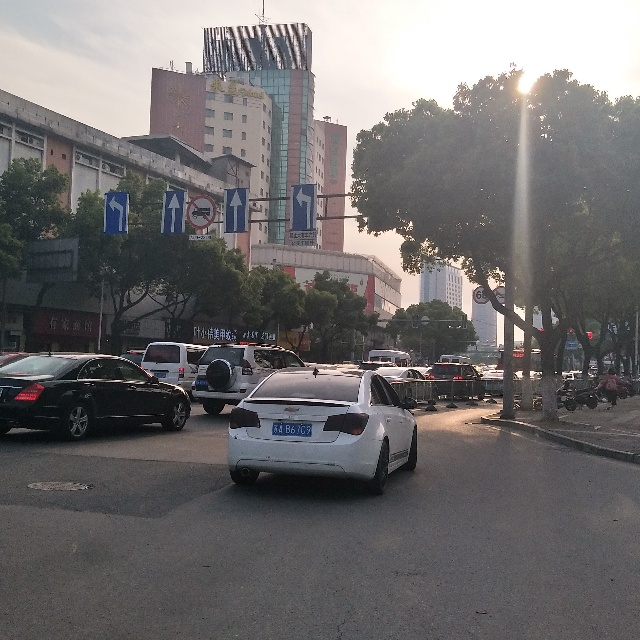left: (293, 183, 320, 234), (106, 187, 130, 233)
straight: (223, 185, 248, 232), (163, 187, 186, 237)
